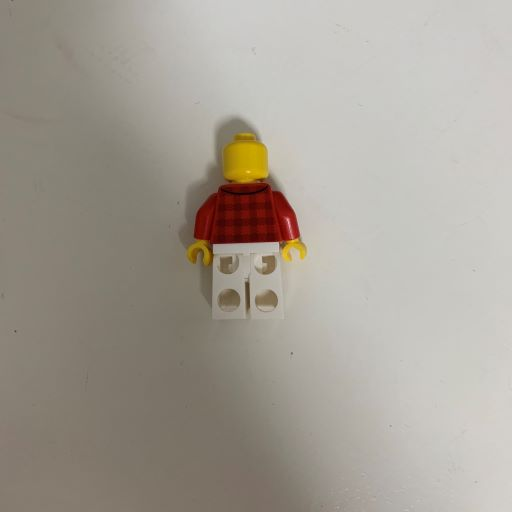human: (166, 127, 319, 326)
